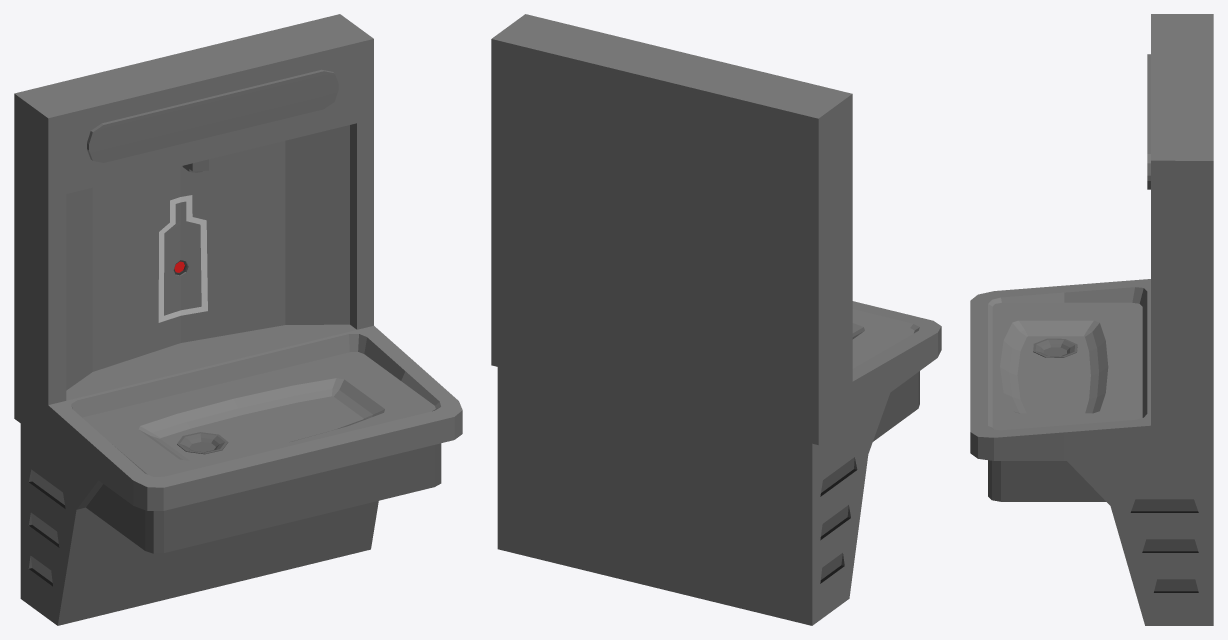
File: Int_WaterFountain02.fbx
The picture shows the model from 3 angles, left to right: view 1: azimuth 30°, elevation 25°; view 2: azimuth 150°, elevation 25°; view 3: azimuth 270°, elevation 25°; orthographic projection. The views are drawn at different scales.
Parts seen in each view (by area): view 1: Int_WaterFountain02; view 2: Int_WaterFountain02; view 3: Int_WaterFountain02.
Part boxes in pixels (x1=…): Int_WaterFountain02: x1=14, y1=14, x2=462, y2=625; Int_WaterFountain02: x1=491, y1=14, x2=941, y2=625; Int_WaterFountain02: x1=970, y1=14, x2=1213, y2=625.
Size of what is drawn, in the model's own units: 105 by 73.41 by 156.
